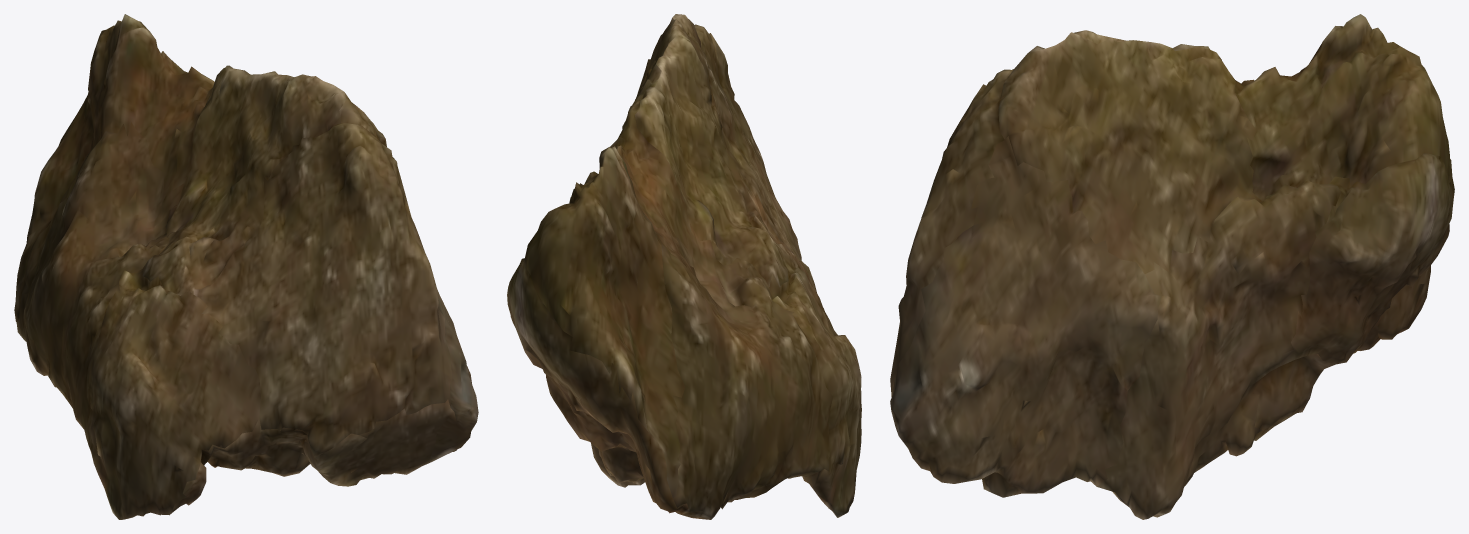
Rendered from stone_a.glb.
3 renders of one model, left to right at view 1: azimuth 30°, elevation 25°; view 2: azimuth 150°, elevation 25°; view 3: azimuth 270°, elevation 25°, orthographic. The views are drawn at different scales.
Parts seen in each view (by area): view 1: rock_moss_set_01_rock01.001; view 2: rock_moss_set_01_rock01.001; view 3: rock_moss_set_01_rock01.001.
Boxes of the visible parts, left/top/right/bottom form: rock_moss_set_01_rock01.001: left=14, top=14, right=478, bottom=519; rock_moss_set_01_rock01.001: left=507, top=14, right=861, bottom=519; rock_moss_set_01_rock01.001: left=890, top=14, right=1454, bottom=519.
Bounding box in the file's own units: 2.33 × 3.26 × 3.51.
1 material, 1 textured.
